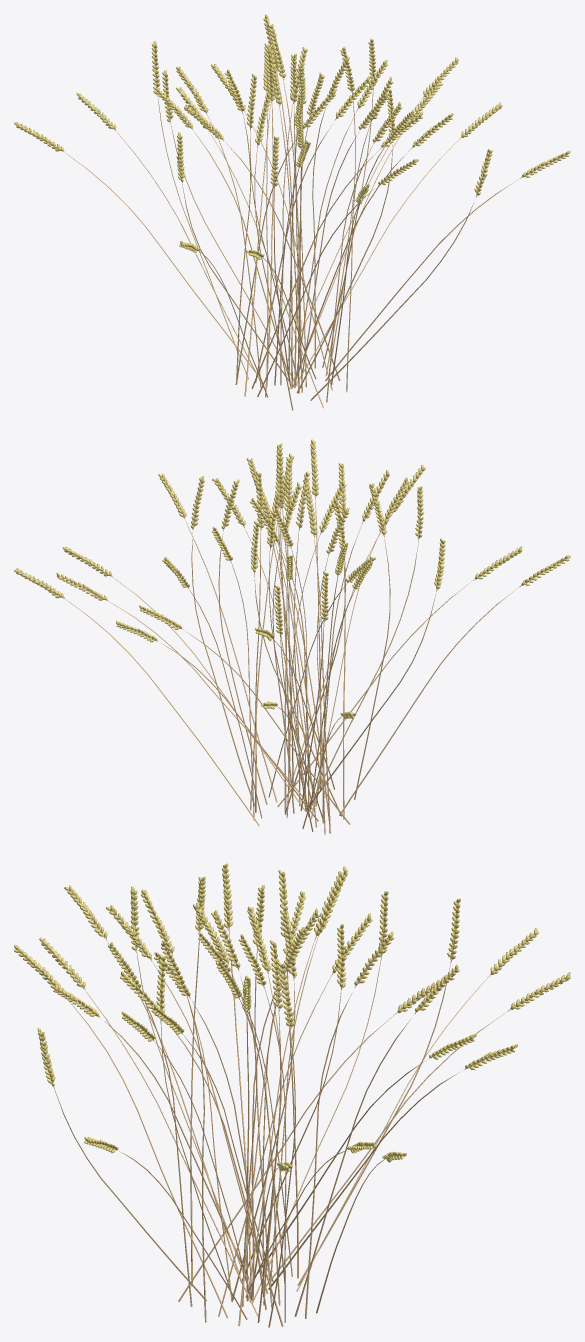
The model's file is wheat1.obj.
The picture shows the model from 3 angles, top to bottom: view 1: azimuth 30°, elevation 25°; view 2: azimuth 150°, elevation 25°; view 3: azimuth 270°, elevation 25°; orthographic projection. The views are drawn at different scales.
Visible parts, largest first — view 1: stm_38_0, lvs_38_1; view 2: stm_38_0, lvs_38_1; view 3: stm_38_0, lvs_38_1.
Boxes of the visible parts, left/top/right/bottom form: stm_38_0: left=18, top=29, right=563, bottom=410; lvs_38_1: left=14, top=14, right=570, bottom=259; stm_38_0: left=18, top=444, right=564, bottom=834; lvs_38_1: left=14, top=439, right=570, bottom=719; stm_38_0: left=21, top=869, right=565, bottom=1327; lvs_38_1: left=14, top=863, right=570, bottom=1171.
Bounding box in the file's own units: 7.94 × 5.93 × 7.48.
